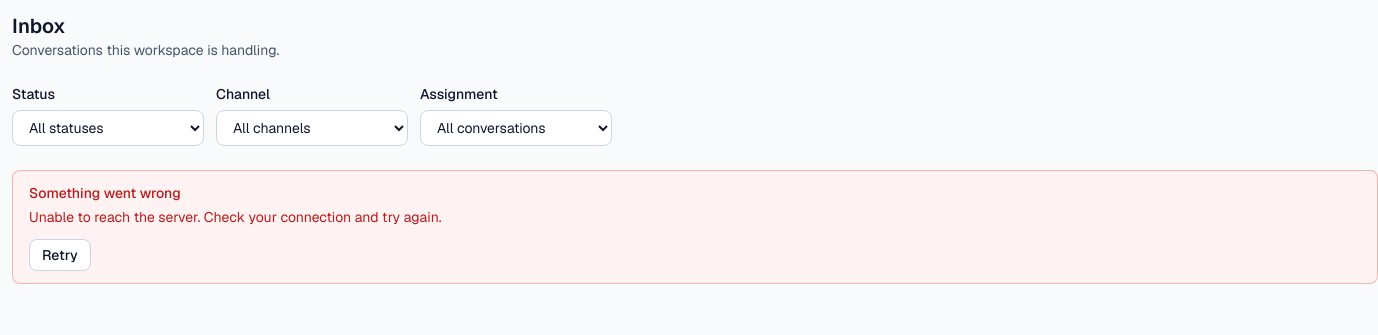
Test: ConversationsListPage › shows a network-error state (not empty) and recovers via Retry
Check: the text "Something went wrong" is shown, box [29,184,181,202]
Click the button "Retry": (60, 255) [29,239,91,271]
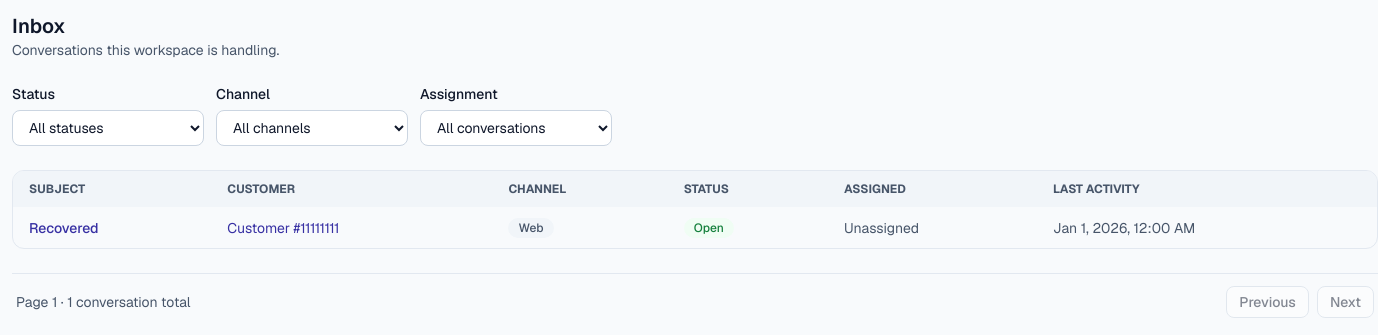
Check: the link "Recovered" is shown, box [29,218,99,236]
